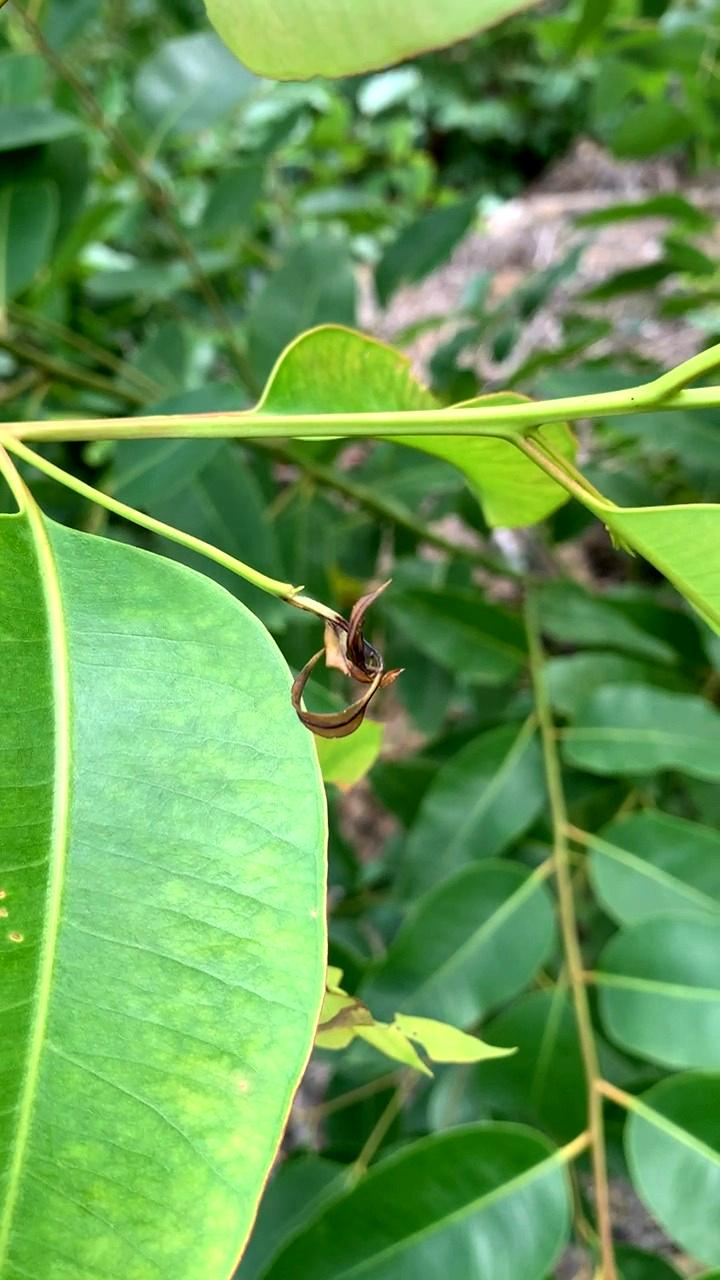Helopeltis-Withered Sprout: (270, 570, 419, 733)
